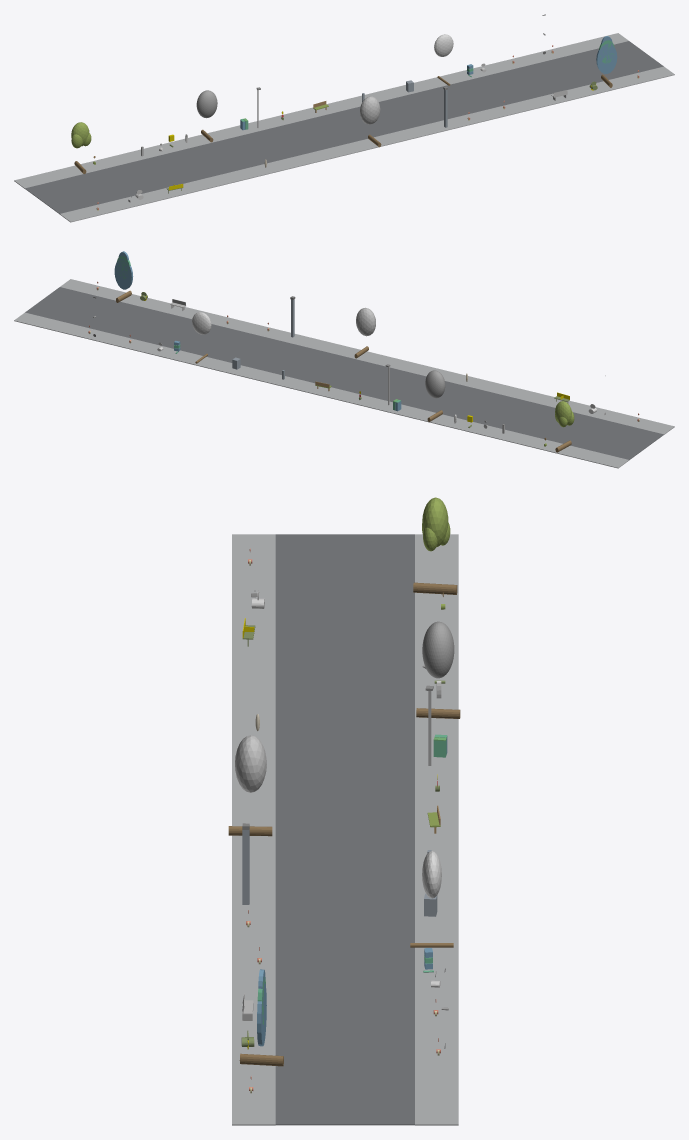
3 views of the same model, one above another, from view 1: azimuth 30°, elevation 25°; view 2: azimuth 150°, elevation 25°; view 3: azimuth 270°, elevation 25° (orthographic). The views are drawn at different scales.
Parts seen in each view (by area): view 1: road_slab, sidewalk_left, sidewalk_right, inst_0016, inst_0013, inst_0014, inst_0012, inst_0015; view 2: road_slab, sidewalk_right, sidewalk_left, inst_0016, inst_0013, inst_0014, inst_0012, inst_0015; view 3: road_slab, sidewalk_left, sidewalk_right, inst_0013, inst_0014, inst_0012, inst_0016, inst_0015.
Boxes of the visible parts, <box> form: road_slab: <box>25,41,663,213</box>; sidewalk_left: <box>59,66,674,222</box>; sidewalk_right: <box>14,33,628,188</box>; inst_0016: <box>596,36,617,87</box>; inst_0013: <box>196,90,217,142</box>; inst_0014: <box>360,96,381,147</box>; inst_0012: <box>71,122,91,173</box>; inst_0015: <box>434,34,453,85</box>; road_slab: <box>25,287,663,459</box>; sidewalk_right: <box>14,312,629,468</box>; sidewalk_left: <box>60,279,674,434</box>; inst_0016: <box>114,251,133,302</box>; inst_0013: <box>425,370,445,421</box>; inst_0014: <box>354,307,375,358</box>; inst_0012: <box>555,401,574,452</box>; inst_0015: <box>192,312,211,363</box>; road_slab: <box>275,534,414,1125</box>; sidewalk_left: <box>232,534,275,1125</box>; sidewalk_right: <box>415,534,458,1125</box>; inst_0013: <box>416,621,460,718</box>; inst_0014: <box>228,735,272,836</box>; inst_0012: <box>413,497,457,594</box>; inst_0016: <box>239,969,283,1066</box>; inst_0015: <box>410,851,453,947</box>.
Bounding box in the file's own units: 80 × 6.08 × 13.29.
